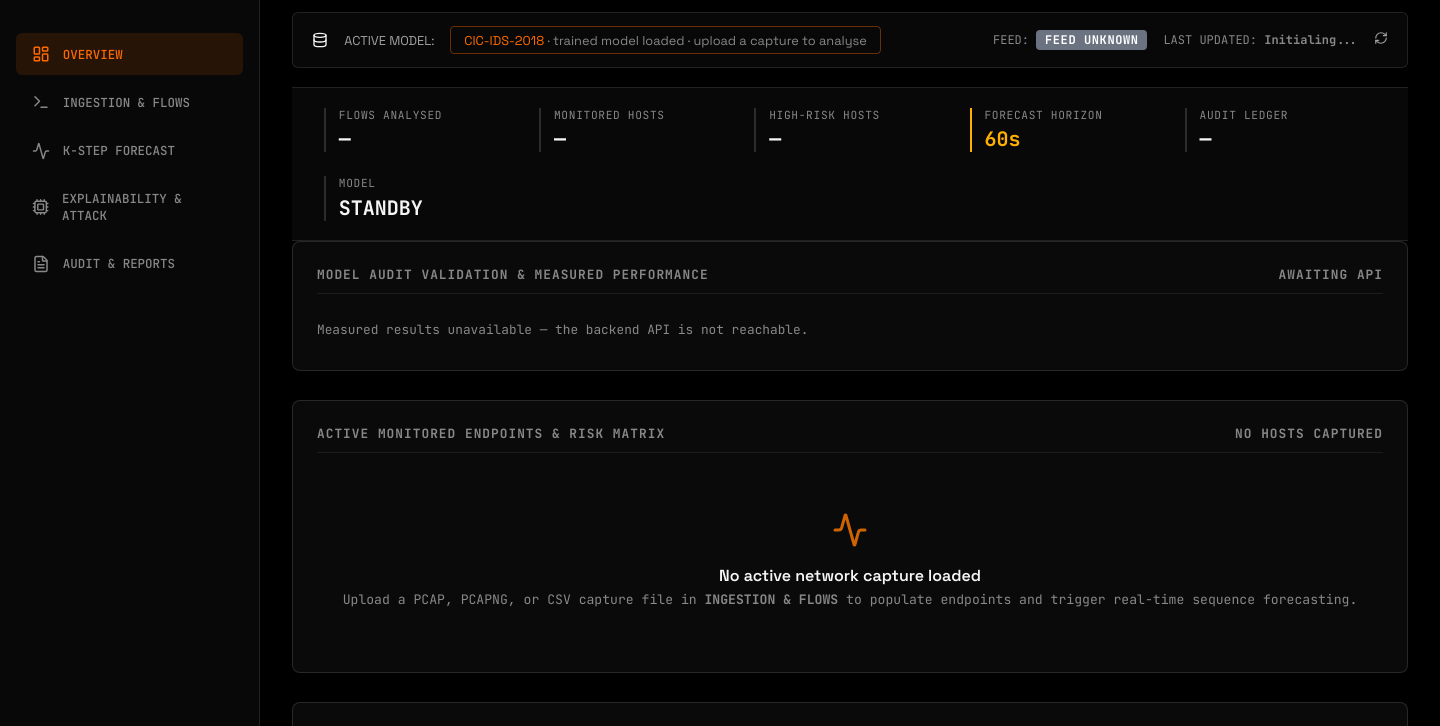
it: Dashboard demo loading › loads a scenario by id and shows the same success state as an upload
Click the button "INGESTION & FLOWS".
click(130, 102)  # box [16,81,243,123]
(page scrolled)
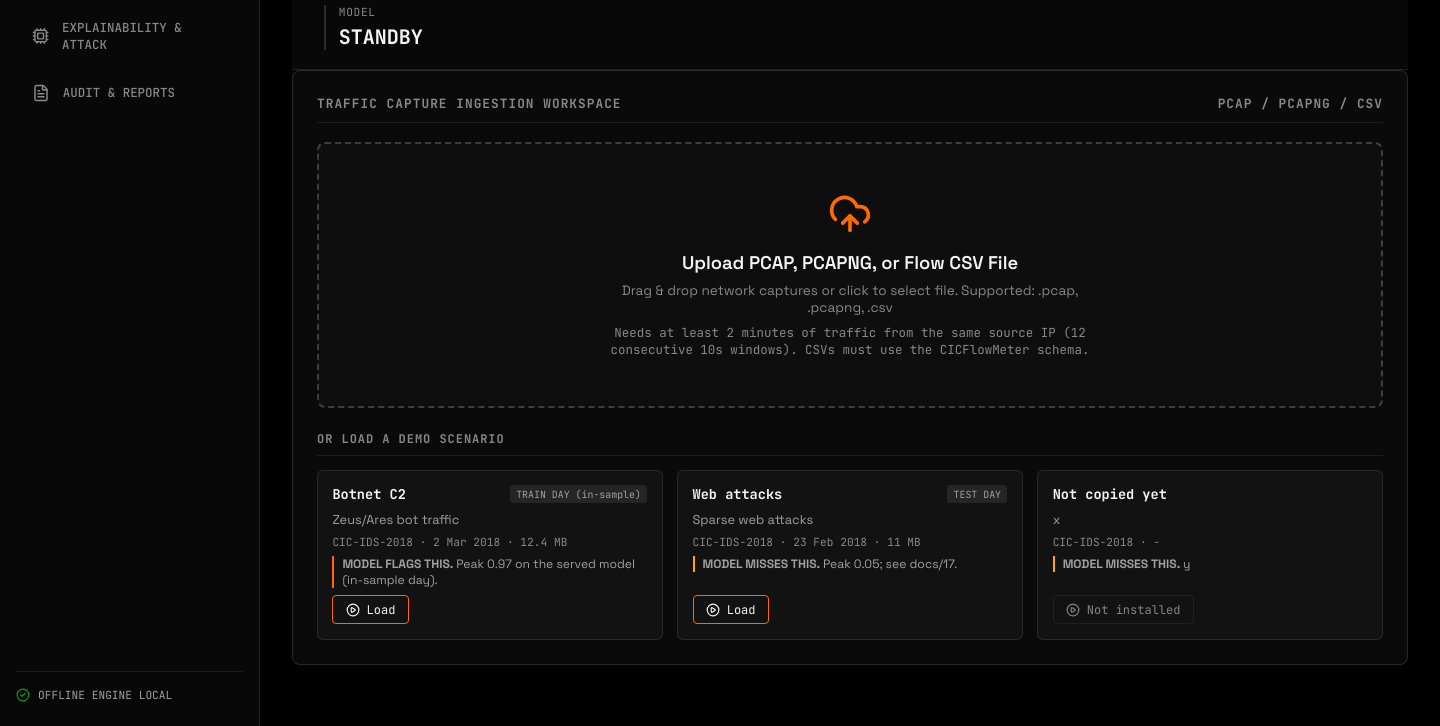
Click the button "Load" below "MODEL FLAGS THIS".
click(371, 610)  # box [332,595,409,624]
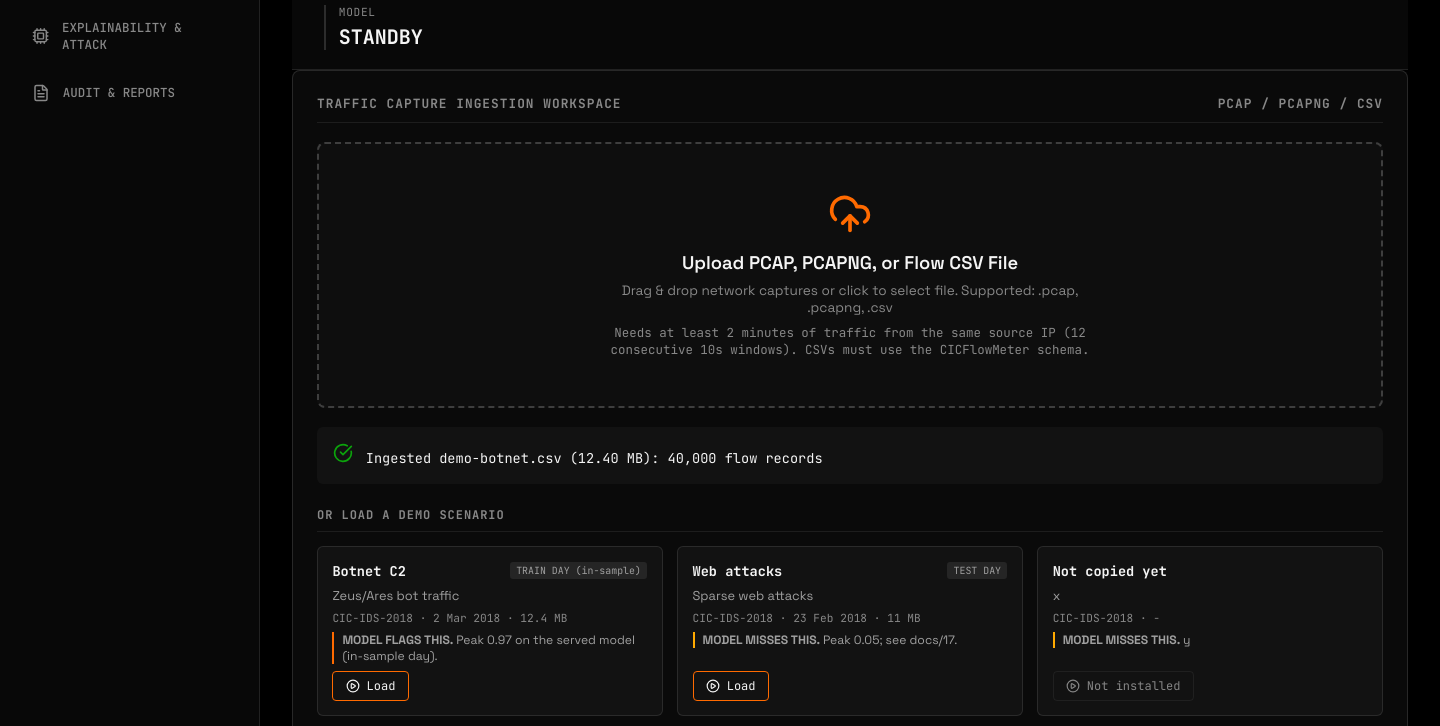
Expected: the text "Ingested demo-botnet.csv (12.40 MB): 40,000 flow records" is shown, [366,449,823,467]
